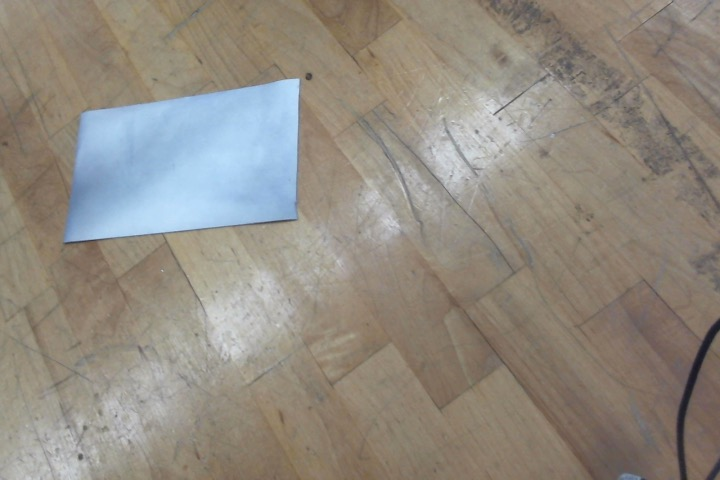Tape: (63, 78, 302, 244)
